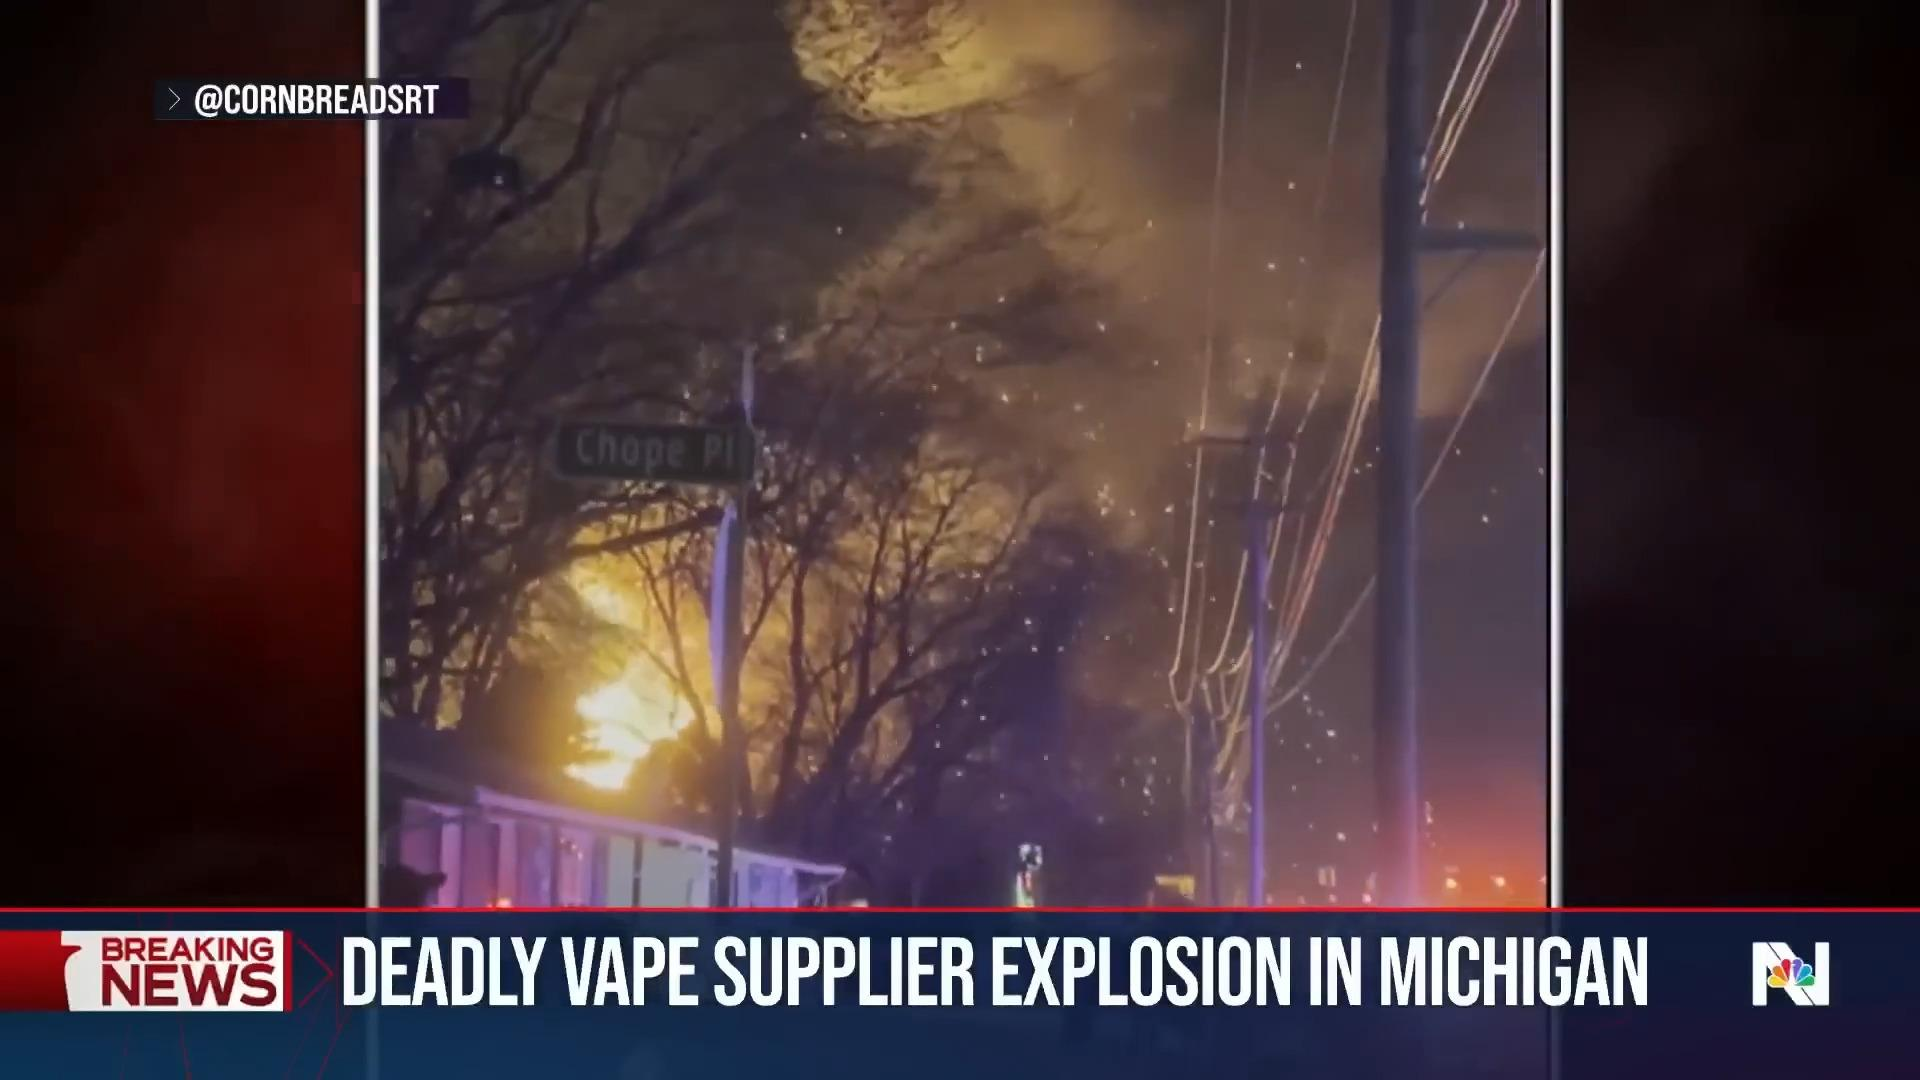fire: (514, 522, 808, 827)
